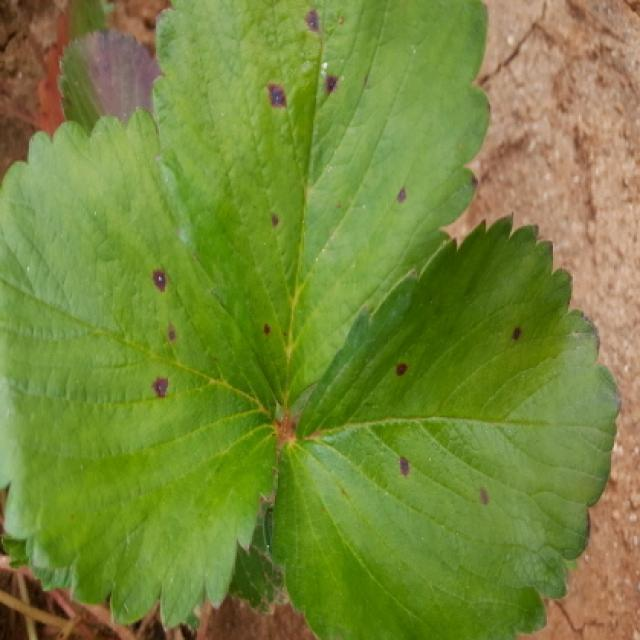Leaf Spot: (262, 213, 622, 638), (0, 104, 281, 630), (151, 0, 494, 413)
